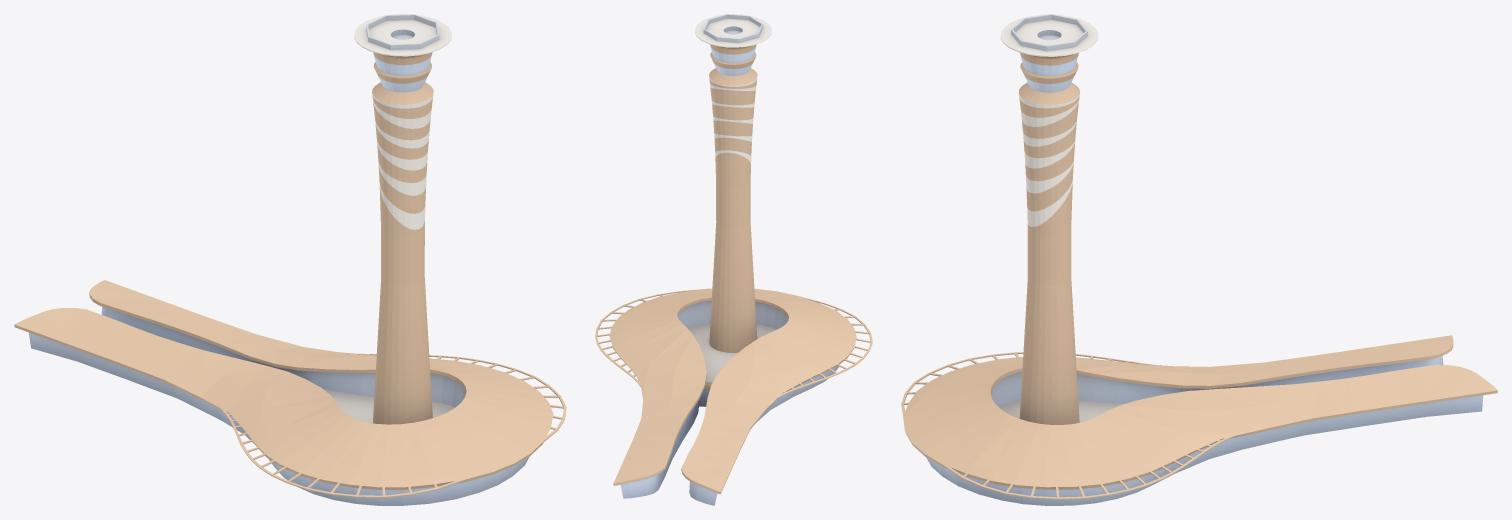
File: KA-Control-Tower.glb
3 views of the same model, side by side, from view 1: azimuth 30°, elevation 25°; view 2: azimuth 150°, elevation 25°; view 3: azimuth 270°, elevation 25° (orthographic). The views are drawn at different scales.
Parts seen in each view (by area): view 1: kingabdulazizcontroltower1, kingabdulazizcontroltower2; view 2: kingabdulazizcontroltower1, kingabdulazizcontroltower2; view 3: kingabdulazizcontroltower1, kingabdulazizcontroltower2.
Part boxes in pixels (x1=…): kingabdulazizcontroltower1: x1=14, y1=280, x2=566, y2=505; kingabdulazizcontroltower2: x1=354, y1=14, x2=451, y2=424; kingabdulazizcontroltower1: x1=595, y1=288, x2=872, y2=505; kingabdulazizcontroltower2: x1=694, y1=14, x2=771, y2=352; kingabdulazizcontroltower1: x1=901, y1=335, x2=1497, y2=505; kingabdulazizcontroltower2: x1=1000, y1=14, x2=1098, y2=424.
Bounding box in the file's own units: 109 × 129 × 167.
Materials: 2 (2 with a texture image).
